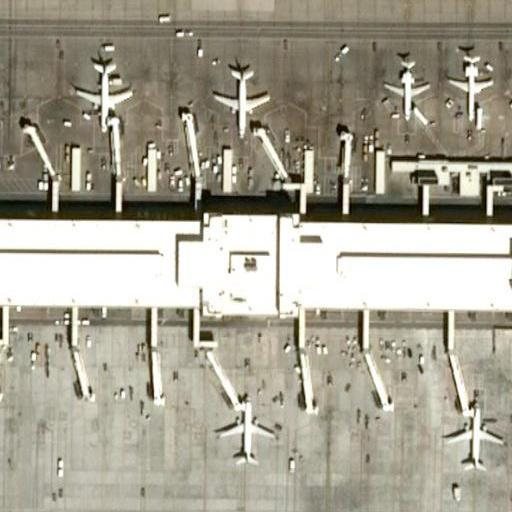Aircraft: (71, 53, 138, 131), (214, 392, 282, 468), (443, 401, 498, 479), (211, 61, 270, 133), (377, 50, 430, 122), (445, 49, 497, 119)
